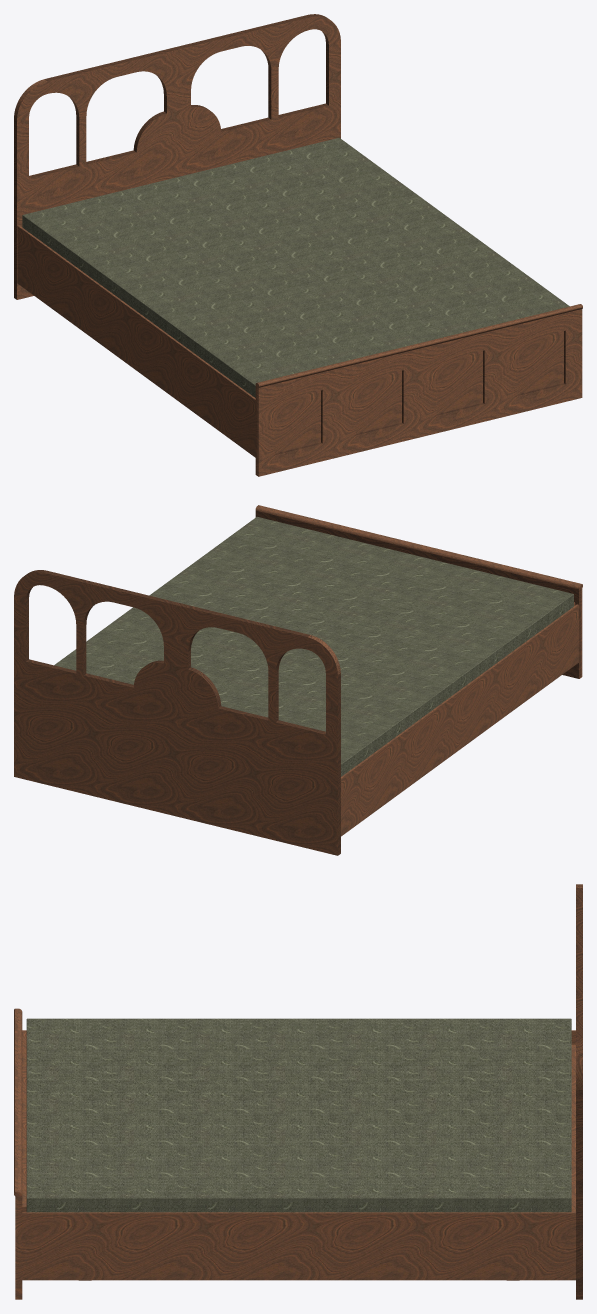
Rendered from bed.glb.
The picture shows the model from 3 angles, top to bottom: view 1: azimuth 30°, elevation 25°; view 2: azimuth 150°, elevation 25°; view 3: azimuth 270°, elevation 25°; orthographic projection. The views are drawn at different scales.
Parts seen in each view (by area): view 1: Model, Mesh1_Wood_Veneer_02_0; view 2: Mesh1_Wood_Veneer_02_0, Model; view 3: Model, Mesh1_Wood_Veneer_02_0.
Part boxes in pixels (x1=…): Model: x1=14, y1=14, x2=582, y2=475; Mesh1_Wood_Veneer_02_0: x1=14, y1=16, x2=582, y2=476; Mesh1_Wood_Veneer_02_0: x1=14, y1=505, x2=582, y2=855; Model: x1=25, y1=510, x2=581, y2=855; Model: x1=26, y1=884, x2=582, y2=1299; Mesh1_Wood_Veneer_02_0: x1=14, y1=884, x2=582, y2=1299.
Bounding box in the file's own units: 1.45 × 0.9 × 1.89.
4 materials, 4 textured.
